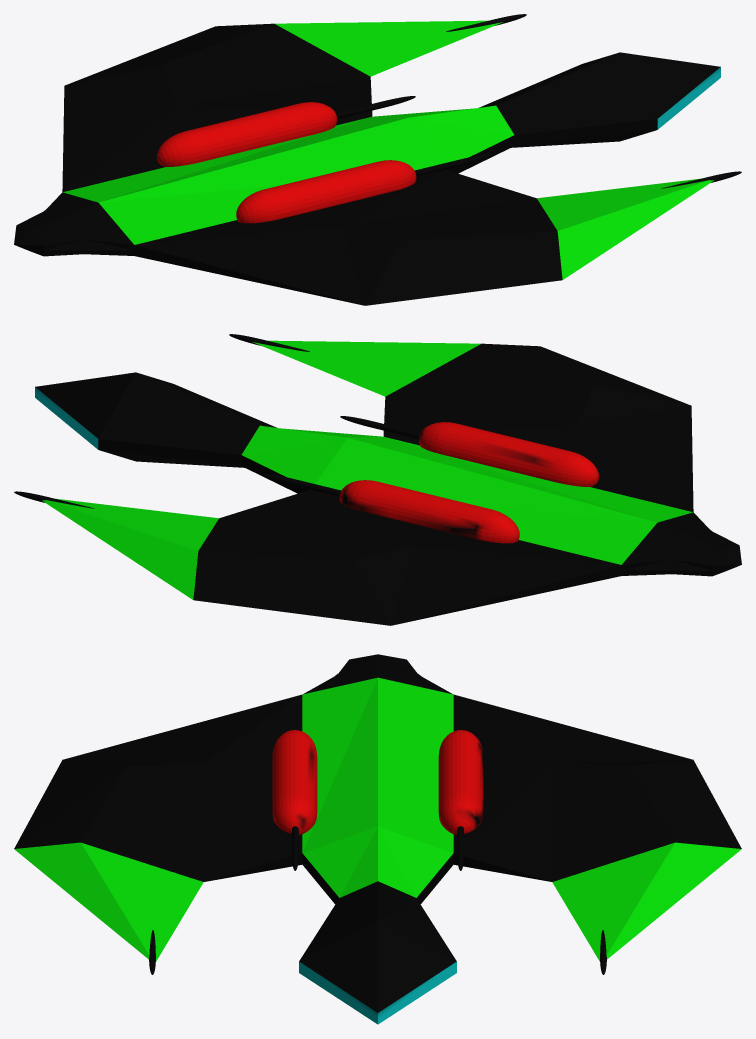
The model's file is Generic_Fighter.fbx.
3 renders of one model, top to bottom at view 1: azimuth 30°, elevation 25°; view 2: azimuth 150°, elevation 25°; view 3: azimuth 270°, elevation 25°, orthographic. The views are drawn at different scales.
Visible parts, largest first — view 1: Cube; view 2: Cube; view 3: Cube.
Boxes of the visible parts, left/top/right/bottom form: Cube: left=14, top=14, right=741, bottom=305; Cube: left=14, top=334, right=741, bottom=625; Cube: left=14, top=654, right=741, bottom=1024.
Bounding box in the file's own units: 1455 × 175 × 1237.
